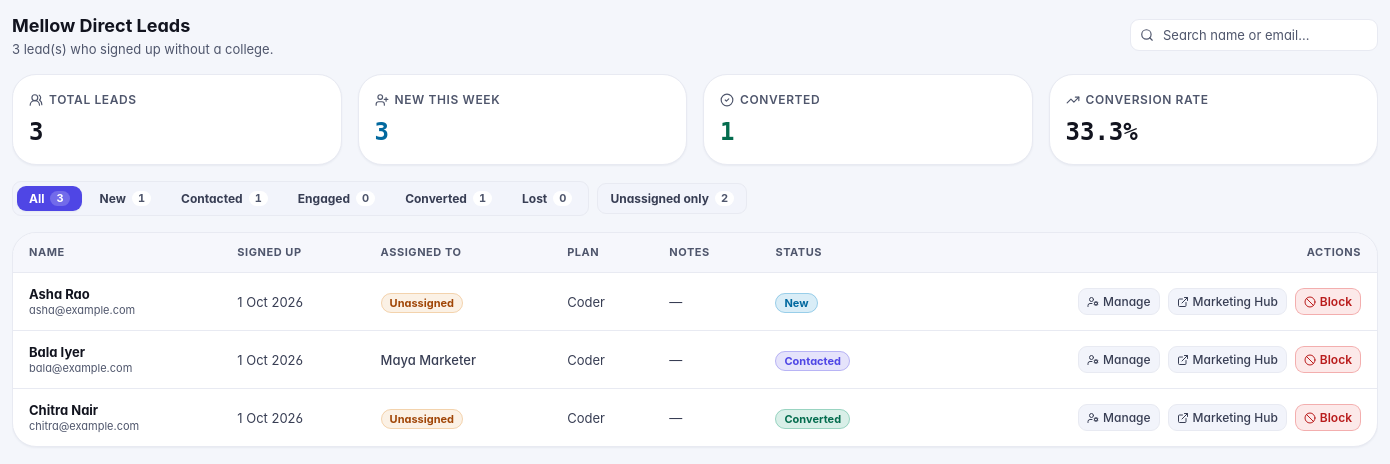
it: Leads tab — loading › ignores a late answer to an old filter
Expected: the text "Asha Rao" is shown, [29, 286, 90, 302]
Click the button "New 1" at (125, 198), box [88, 186, 163, 211]
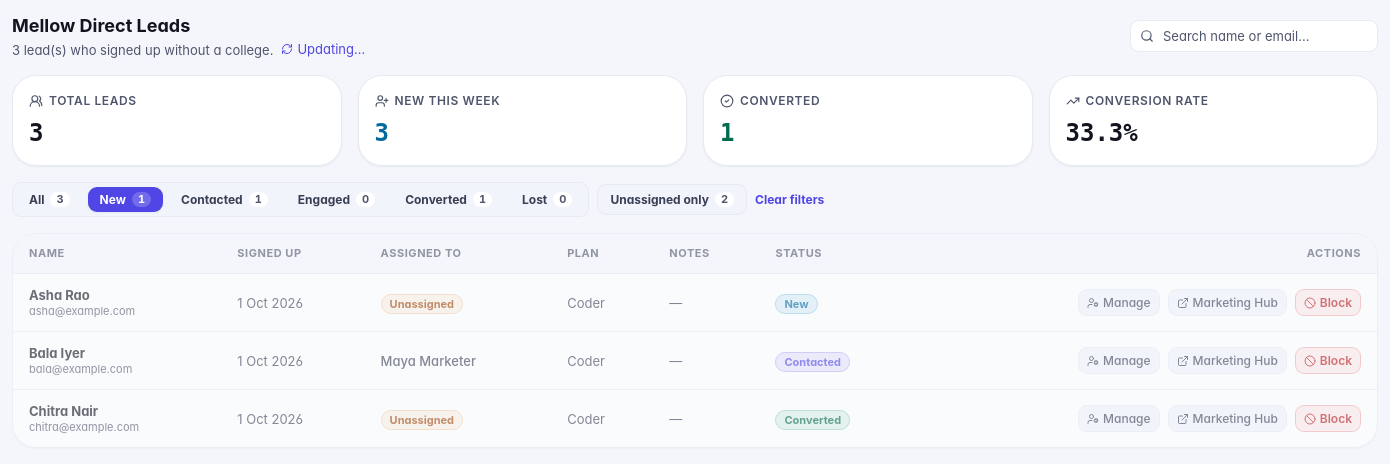
Click the button "Contacted 1" at (224, 200), box [169, 187, 280, 212]
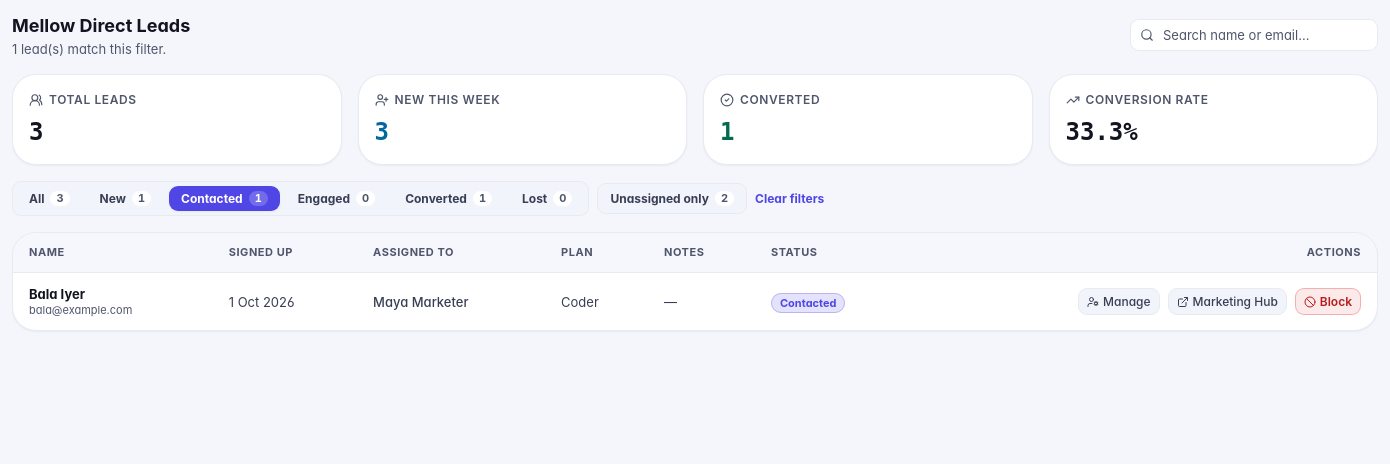
Expected: the text "Bala Iyer" is shown, [29, 286, 85, 302]
Expected: the text "1 lead(s) match this filter." is shown, [12, 40, 190, 58]
Expected: the text "Asha Rao" is gone
